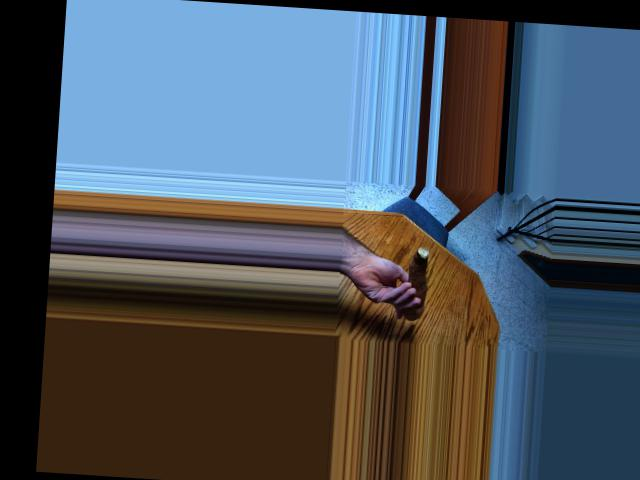sweet_potato: (408, 244, 428, 309)
